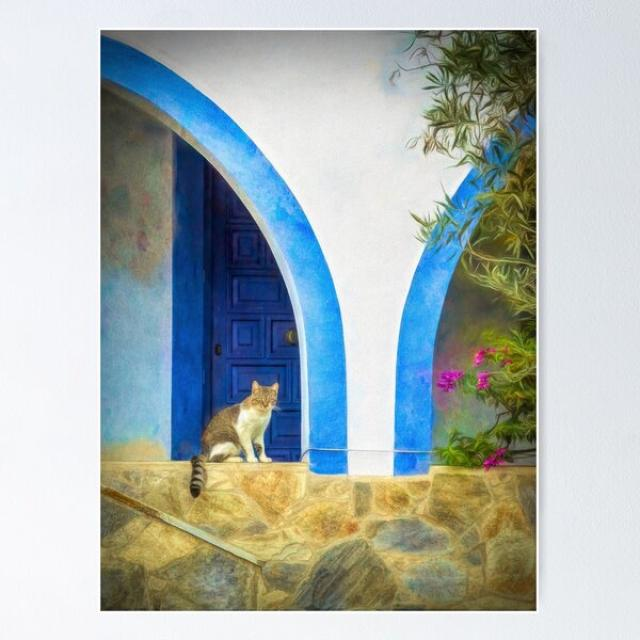cat: (190, 380, 278, 498)
